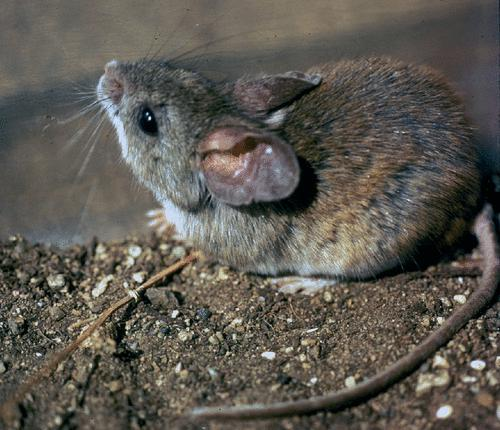rat: (96, 60, 499, 420)
